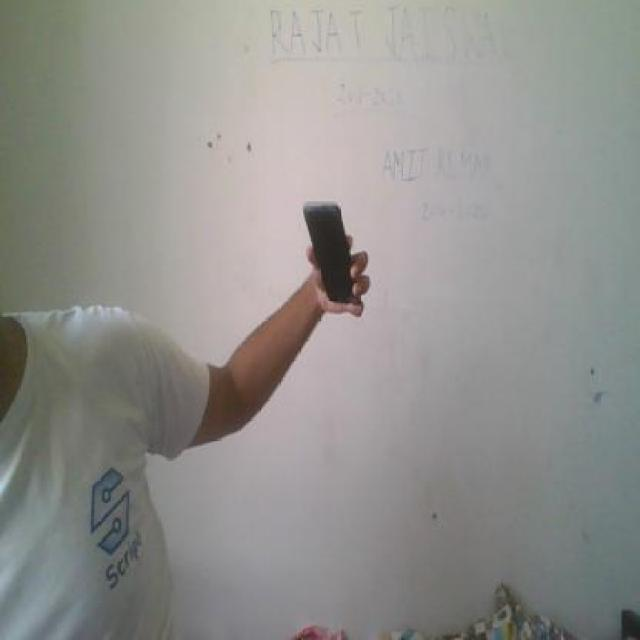Phone: (300, 200, 358, 307)
